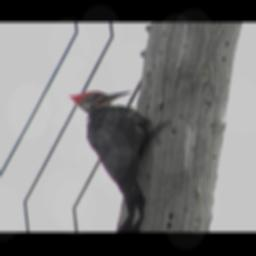Woodpecker: (44, 81, 178, 218)
